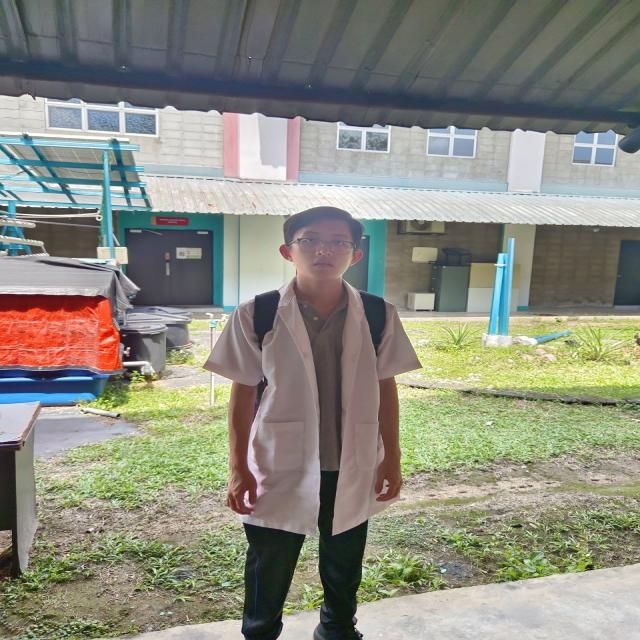person_with_labcoat: (205, 208, 419, 640)
